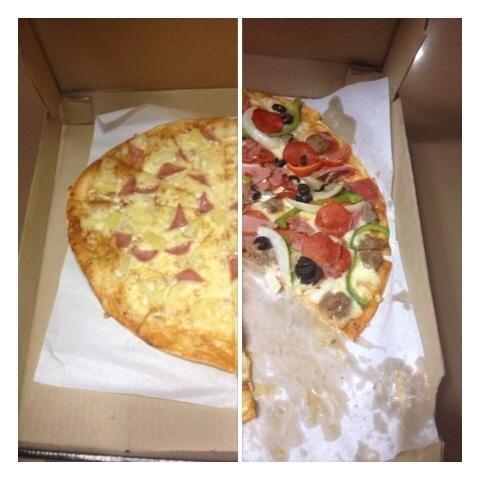bell pepper: (266, 97, 303, 137), (346, 250, 370, 308), (350, 223, 390, 251), (275, 207, 303, 229)
onion: (257, 226, 290, 285), (242, 105, 282, 149), (284, 196, 366, 214), (309, 180, 344, 201), (300, 176, 324, 190), (298, 211, 317, 220)
pineapple: (188, 299, 218, 322), (166, 282, 188, 308), (144, 230, 168, 250), (94, 178, 118, 193), (130, 133, 147, 150), (186, 128, 204, 144), (212, 209, 226, 227), (107, 210, 121, 228), (230, 288, 238, 318), (118, 255, 132, 272), (80, 218, 96, 230), (158, 179, 170, 191), (148, 269, 158, 282)
